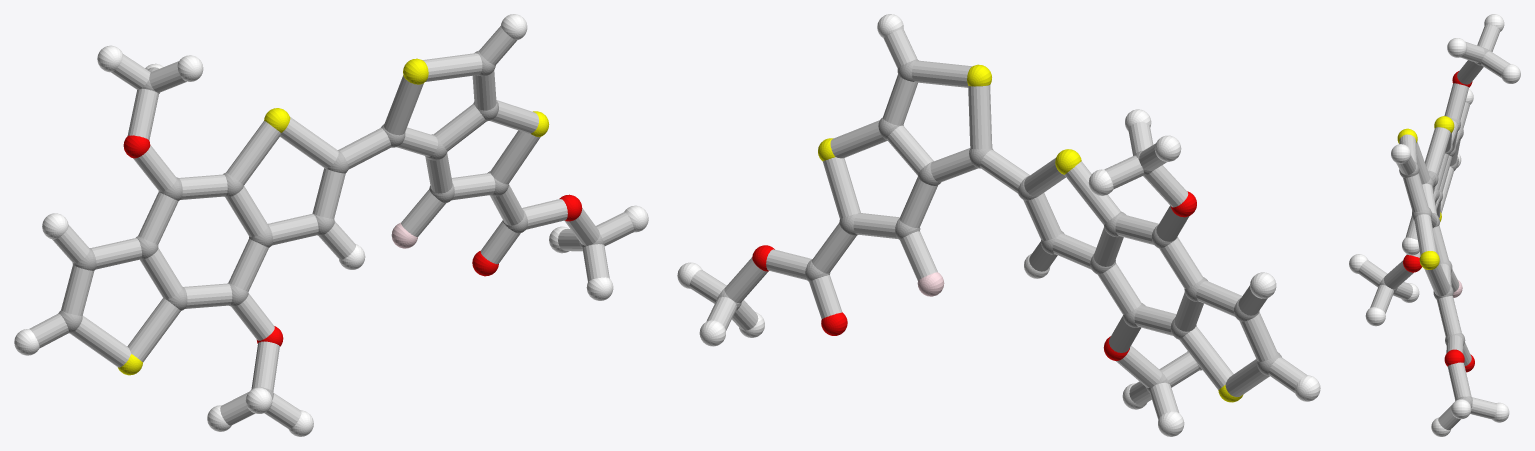
The model's file is color.glb.
The picture shows the model from 3 angles, left to right: view 1: azimuth 30°, elevation 25°; view 2: azimuth 150°, elevation 25°; view 3: azimuth 270°, elevation 25°; orthographic projection. The views are drawn at different scales.
Visible parts, largest first — view 1: grp15205, grp8689, grp1, grp7241, grp13395; view 2: grp15205, grp8689, grp1, grp13395, grp7241; view 3: grp15205, grp8689, grp1, grp7241, grp13395.
Part boxes in pixels (<box>): grp15205: <box>29,26,634,429</box>; grp8689: <box>14,14,648,436</box>; grp1: <box>58,50,604,399</box>; grp7241: <box>118,58,549,375</box>; grp13395: <box>123,135,582,346</box>; grp15205: <box>689,29,1306,419</box>; grp8689: <box>677,14,1320,436</box>; grp1: <box>717,59,1281,392</box>; grp13395: <box>752,191,1196,360</box>; grp7241: <box>818,64,1243,402</box>; grp15205: <box>1358,24,1510,429</box>; grp8689: <box>1349,14,1520,436</box>; grp1: <box>1379,47,1489,404</box>; grp7241: <box>1397,116,1454,269</box>; grp13395: <box>1403,71,1474,372</box>.
Size of the model in its own units: 16.5 by 8.86 by 5.12.
